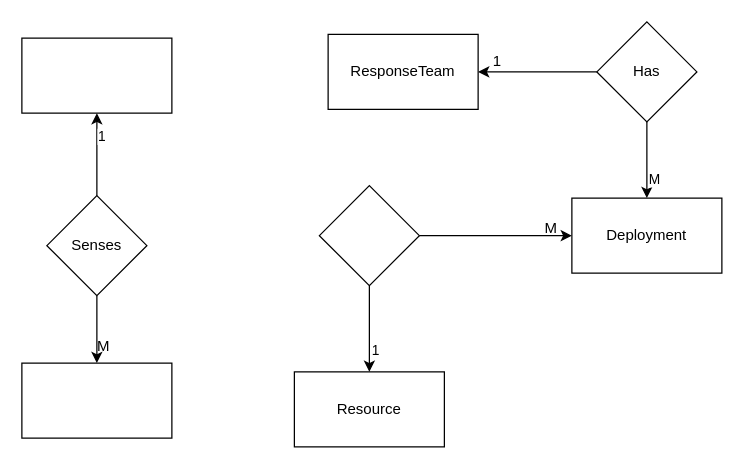
The diagram is 744 pixels wide and 469 high, and some of its shapes have lost their labels. Each missing label, with the centre of its shape:
"Can Be" belongs at (x=368, y=235).
"FoodWarning" belongs at (x=96, y=400).
"Sensor" belongs at (x=96, y=75).
